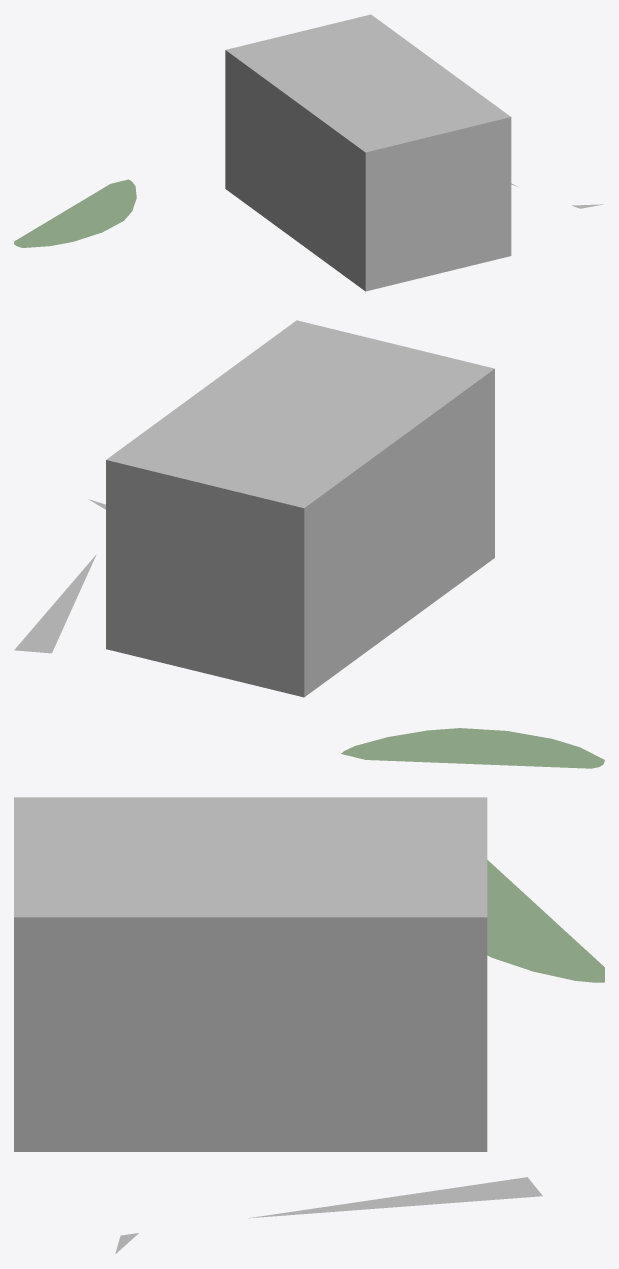
File: 112_80_mid.glb
The picture shows the model from 3 angles, top to bottom: view 1: azimuth 30°, elevation 25°; view 2: azimuth 150°, elevation 25°; view 3: azimuth 270°, elevation 25°; orthographic projection. The views are drawn at different scales.
Bounding box in the file's own units: 147 × 40.86 × 92.4.
